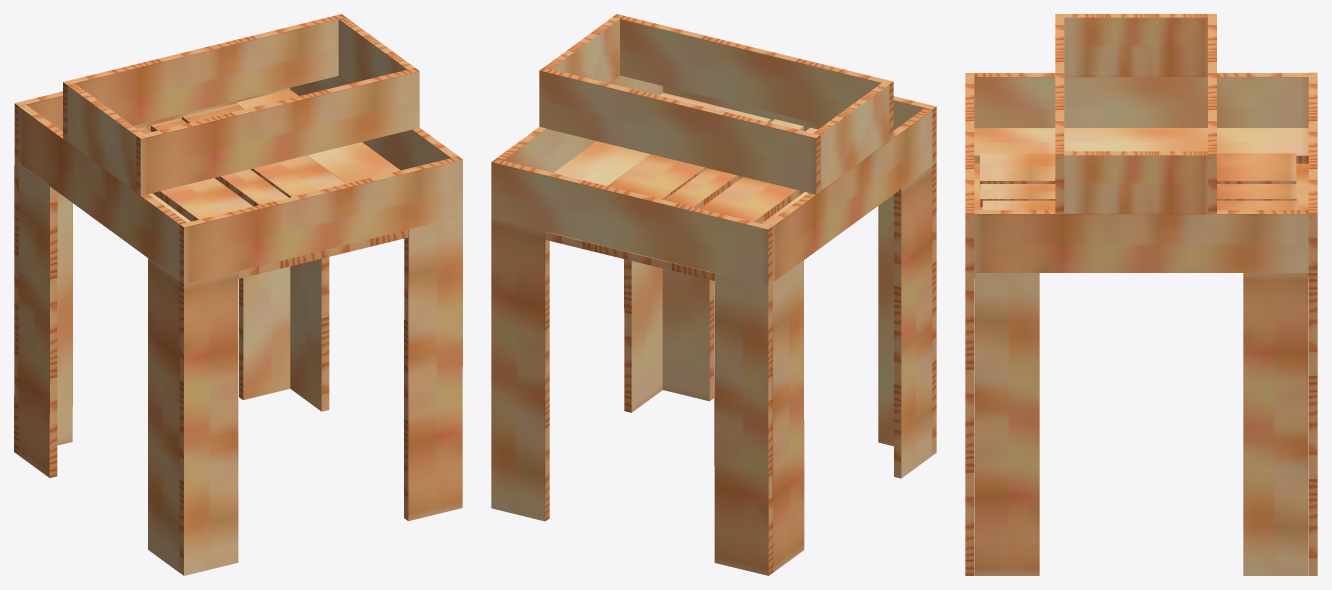
The model's file is Skrzynia.dae.
3 views of the same model, side by side, from view 1: azimuth 30°, elevation 25°; view 2: azimuth 150°, elevation 25°; view 3: azimuth 270°, elevation 25° (orthographic). The views are drawn at different scales.
Parts seen in each view (by area): view 1: group_2 (×11), group_1 (×6), group_18 (×2), group_12 (×2), group_9 (×2), group_17, group_5, group_16, group_13, group_7, group_4, group_3; view 2: group_2 (×11), group_1 (×6), group_3 (×2), group_9 (×2), group_18 (×2), group_17, group_5, group_13, group_16, group_12, group_4, group_8; view 3: group_1 (×3), group_2 (×6), group_16 (×2), group_17 (×2), group_13 (×2), group_4, group_3, group_12, group_18, group_9, group_5, group_8.
Boxes of the visible parts, x1=… form: group_2 (×11): x1=14, y1=76, x2=462, y2=575; group_1 (×6): x1=18, y1=89, x2=400, y2=572; group_18 (×2): x1=136, y1=68, x2=419, y2=195; group_12 (×2): x1=179, y1=156, x2=462, y2=284; group_9 (×2): x1=63, y1=14, x2=345, y2=141; group_17: x1=67, y1=85, x2=136, y2=192; group_5: x1=182, y1=103, x2=345, y2=196; group_16: x1=338, y1=19, x2=407, y2=83; group_13: x1=137, y1=127, x2=252, y2=219; group_7: x1=238, y1=230, x2=408, y2=278; group_4: x1=151, y1=118, x2=288, y2=204; group_3: x1=19, y1=88, x2=289, y2=131; group_2 (×11): x1=491, y1=75, x2=936, y2=575; group_1 (×6): x1=553, y1=92, x2=932, y2=572; group_3 (×2): x1=491, y1=159, x2=772, y2=285; group_9 (×2): x1=539, y1=67, x2=820, y2=194; group_18 (×2): x1=613, y1=14, x2=893, y2=140; group_17: x1=820, y1=85, x2=889, y2=190; group_5: x1=607, y1=106, x2=770, y2=199; group_13: x1=700, y1=127, x2=817, y2=221; group_16: x1=551, y1=19, x2=619, y2=83; group_12: x1=663, y1=86, x2=924, y2=130; group_4: x1=664, y1=119, x2=803, y2=206; group_8: x1=545, y1=232, x2=714, y2=280; group_1 (×3): x1=974, y1=128, x2=1308, y2=575; group_2 (×6): x1=965, y1=73, x2=1317, y2=575; group_16 (×2): x1=1064, y1=151, x2=1207, y2=214; group_17 (×2): x1=1064, y1=14, x2=1207, y2=76; group_13 (×2): x1=980, y1=153, x2=1296, y2=188; group_4: x1=980, y1=184, x2=1296, y2=198; group_3: x1=1308, y1=72, x2=1317, y2=272; group_12: x1=965, y1=73, x2=974, y2=273; group_18: x1=1055, y1=14, x2=1064, y2=214; group_9: x1=1208, y1=14, x2=1216, y2=214; group_5: x1=982, y1=200, x2=1298, y2=210; group_8: x1=1296, y1=163, x2=1308, y2=210.
Bounding box in the file's own units: 29.47 × 30.97 × 40.84.
Materials: 2 (2 with a texture image).
